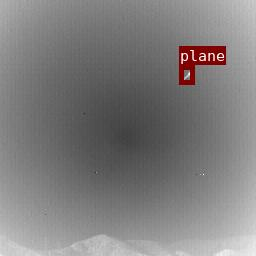plane: (179, 65, 194, 84)
